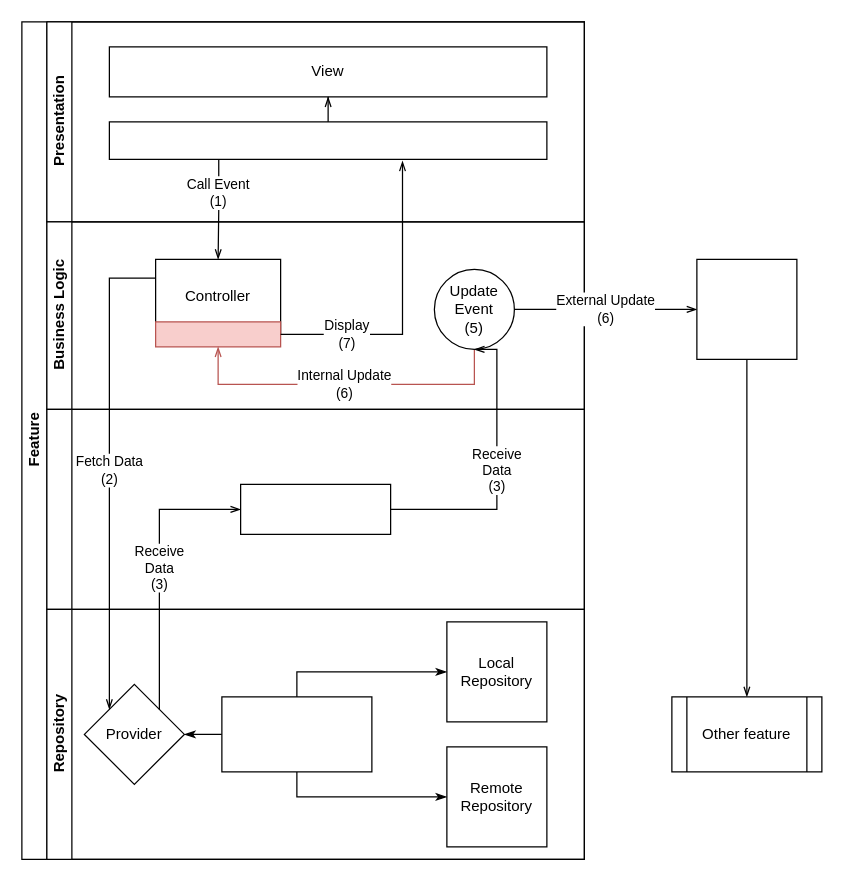
Image size: 844x881. Some labels were removed from this diagram. Here are the shapes that lost their labels. From the top down, the box of each, then its label:
(108, 121, 547, 159): Widget
(696, 258, 797, 359): Service
(154, 321, 281, 347): State
(239, 483, 391, 534): Data
(46, 408, 584, 609): Model
(221, 696, 372, 772): Repository Facade
